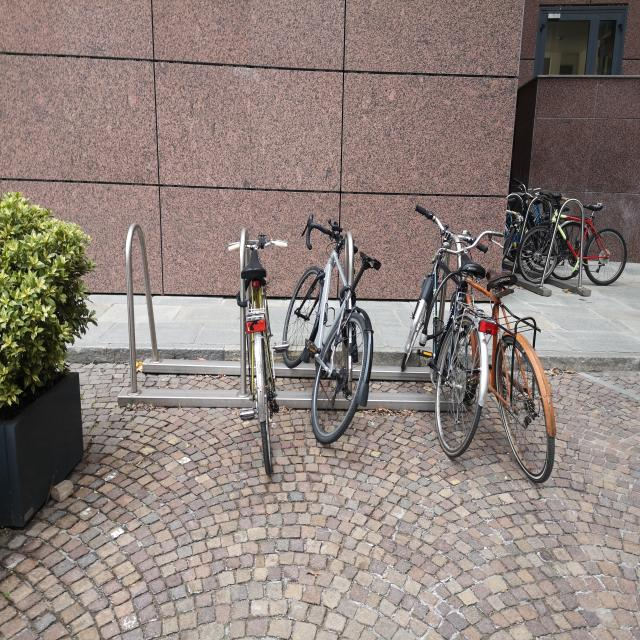Bicycle: (395, 160, 485, 464), (461, 208, 545, 495), (286, 199, 376, 458), (213, 225, 289, 497), (531, 178, 621, 303), (499, 180, 567, 270)
